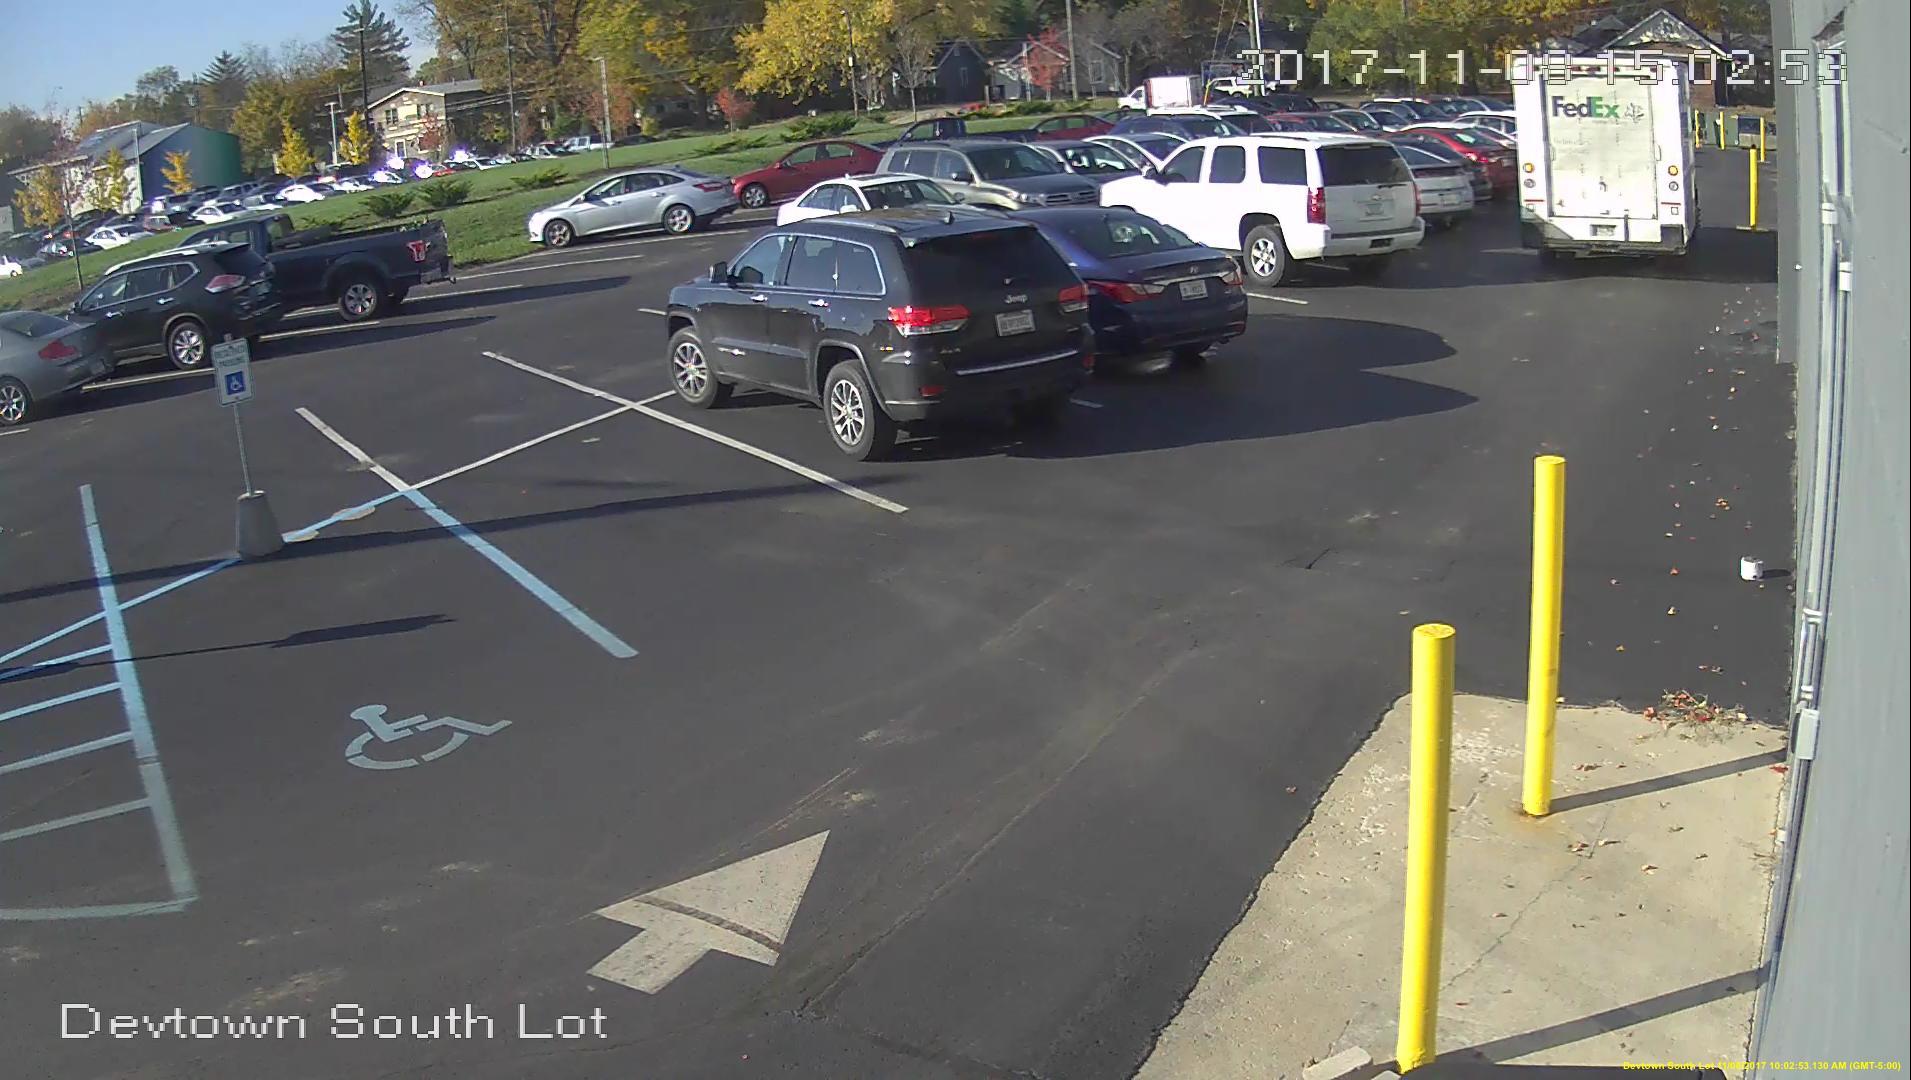fedex_truck: (1509, 50, 1704, 268)
